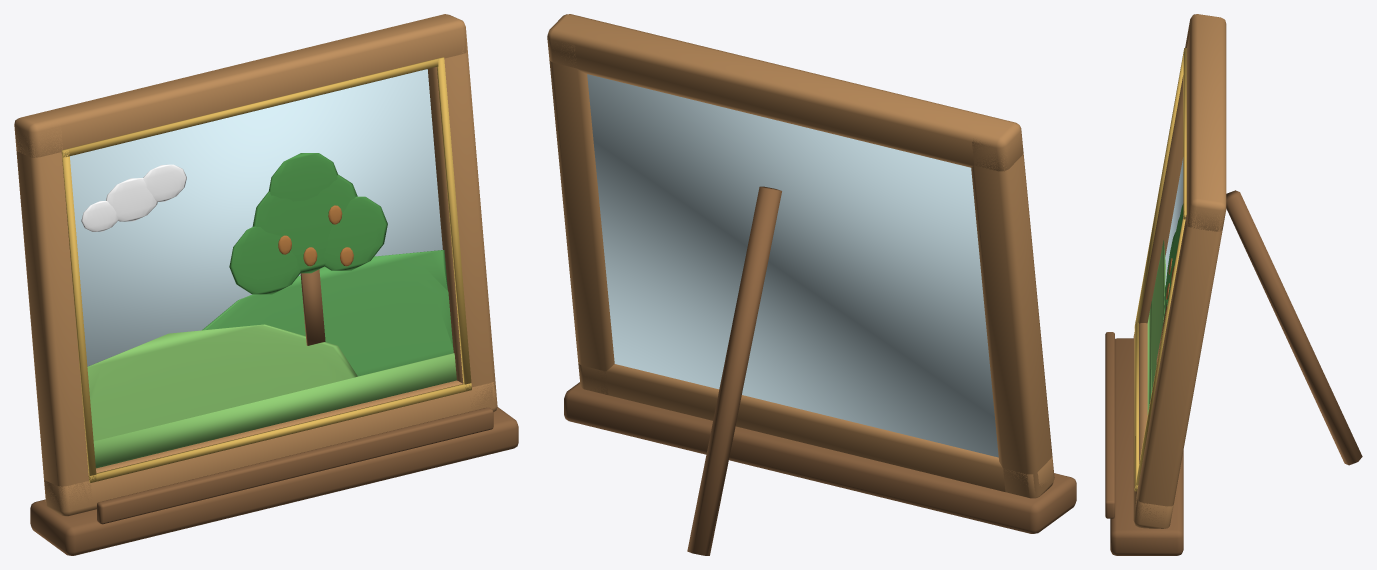
The model's file is art-acorn-hill.glb.
3 renders of one model, left to right at view 1: azimuth 30°, elevation 25°; view 2: azimuth 150°, elevation 25°; view 3: azimuth 270°, elevation 25°, orthographic. The views are drawn at different scales.
Visible parts, largest first — view 1: art; view 2: art; view 3: art.
Boxes of the visible parts, x1,y1,x2,y2 form: art: [14, 14, 518, 555]; art: [547, 14, 1076, 555]; art: [1105, 14, 1362, 555].
Size of the model in its own units: 0.57 by 0.4826 by 0.3151.
